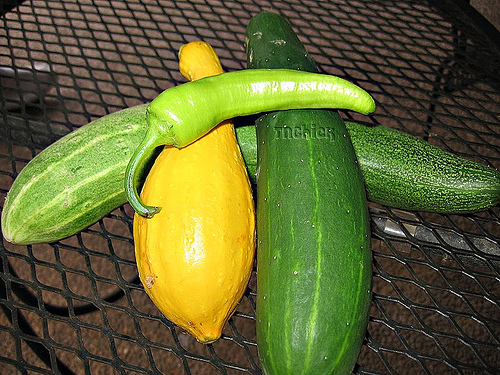cucumber: (0, 101, 499, 247), (245, 10, 371, 373)
